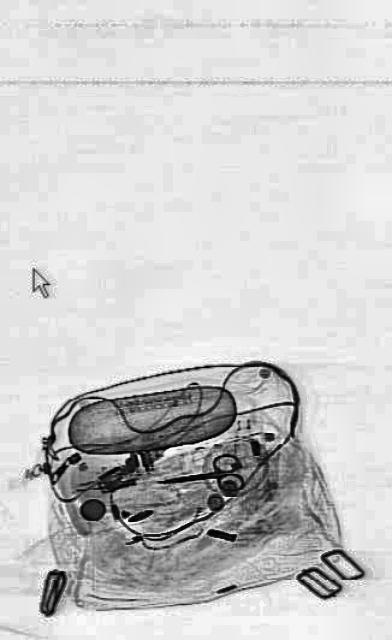Scissors: (157, 450, 244, 500)
